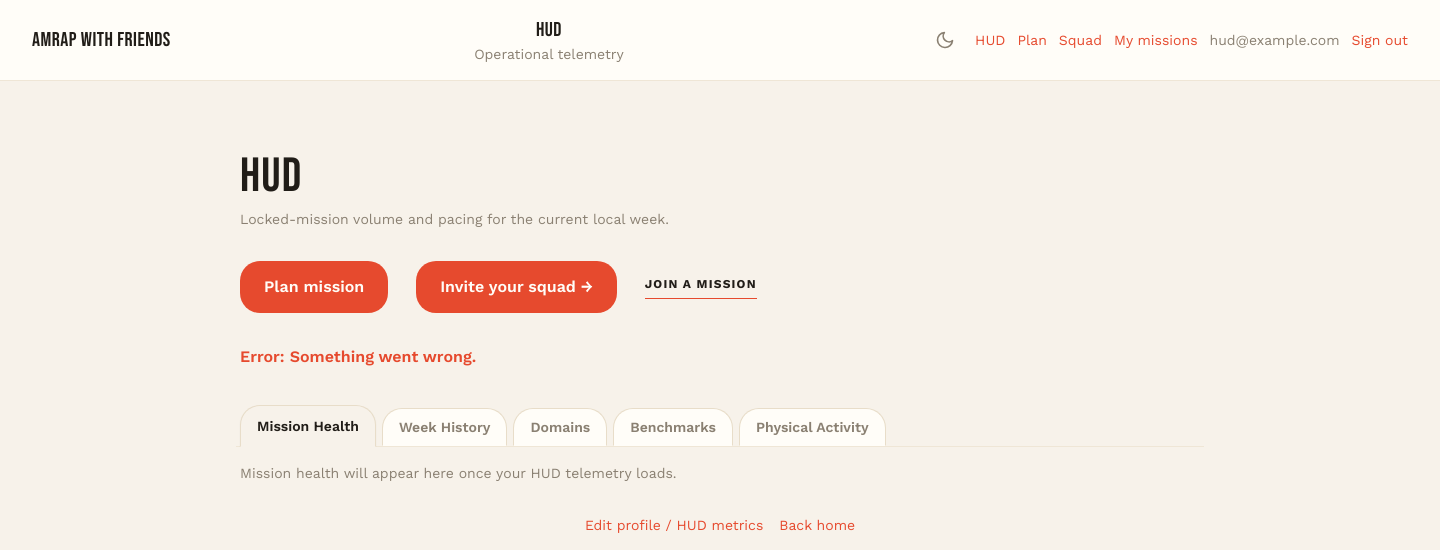
Scenario: HUDPage tabs › shows tabbed fallback copy when telemetry is unavailable
Expected: the element named "HUD sections" is shown, [236,405,1204,447]
Expected: the text "Mission health will appear here once your HUD telemetry loads." is shown, [240,465,676,481]
Click the tab "Benchmarks": (673, 427) [613,408,733,446]
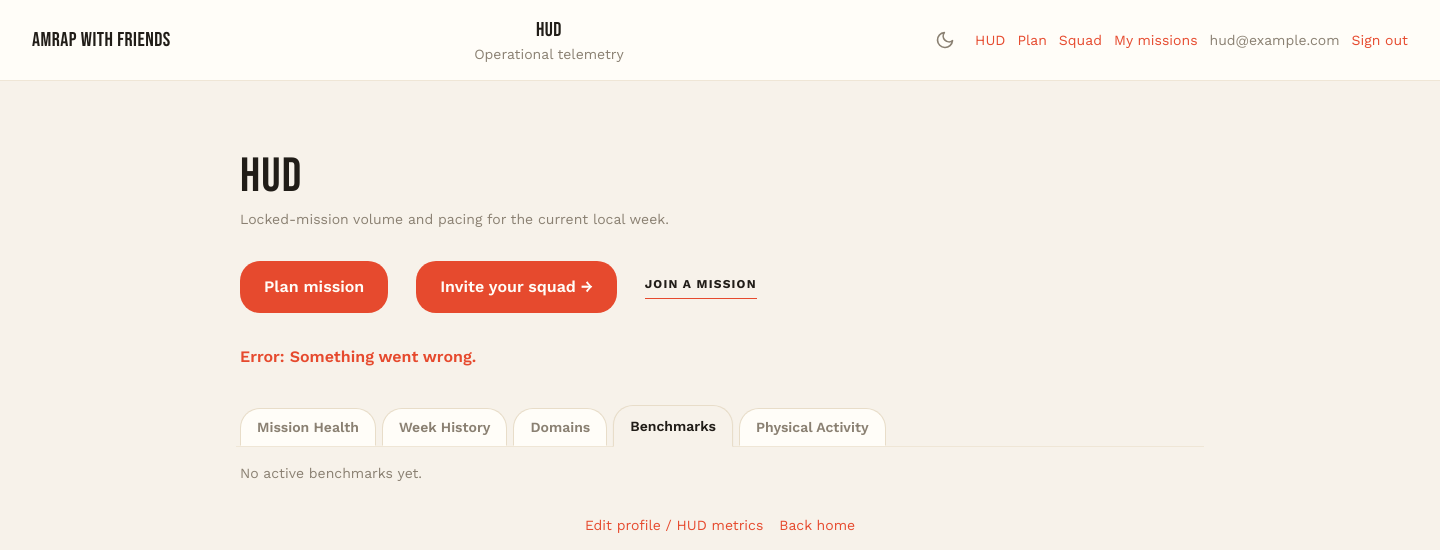
Result: the text "No active benchmarks yet." is shown at [240,465,422,481]
